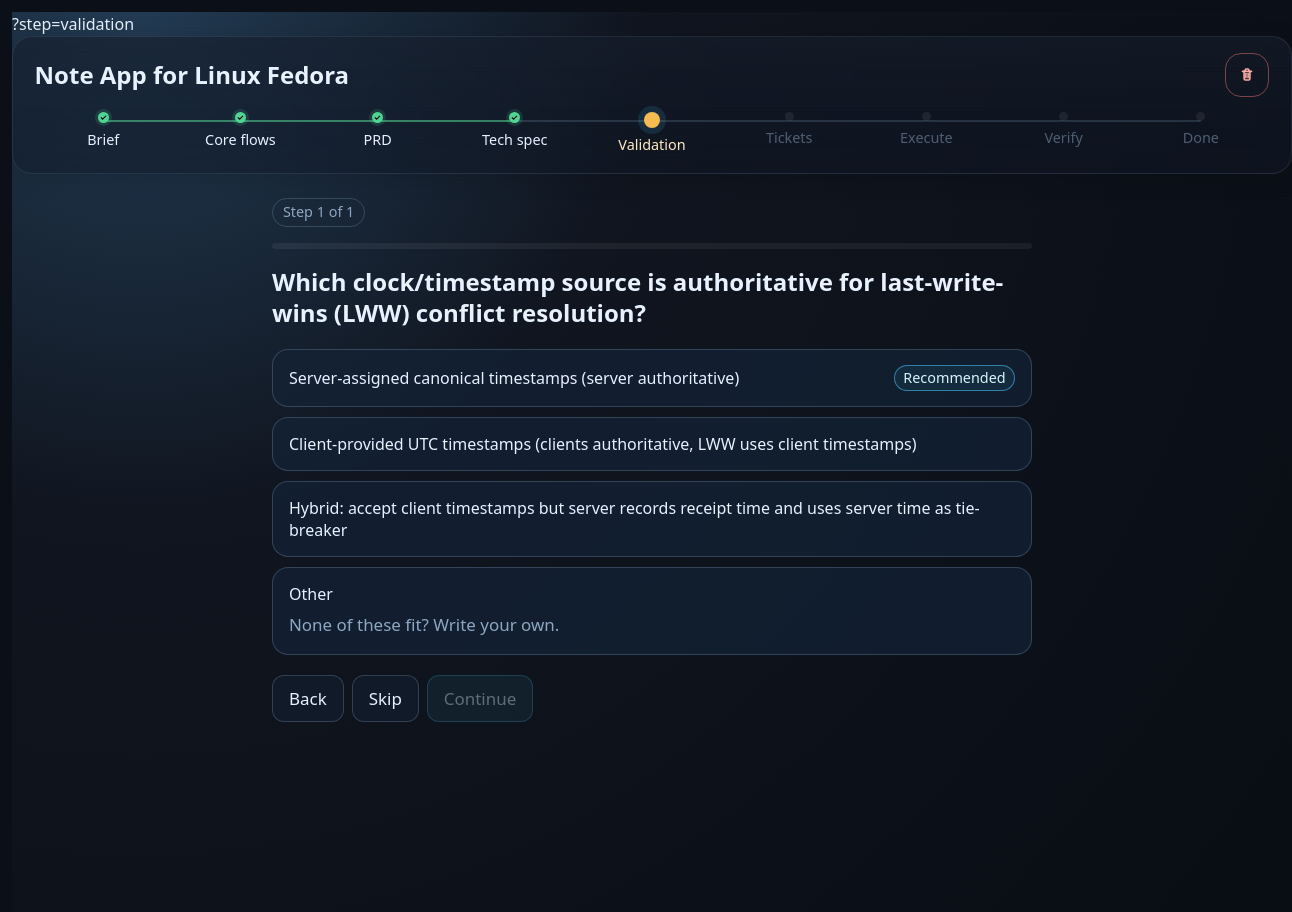
InitiativeView › turns plan validation failures back into in-place validation questions
This screenshot has width=1292, height=912.
Click the button "Server-assigned canonical timestamps (server authoritative)": {"x": 652, "y": 378} top-left (272, 349), bottom-right (1032, 407)
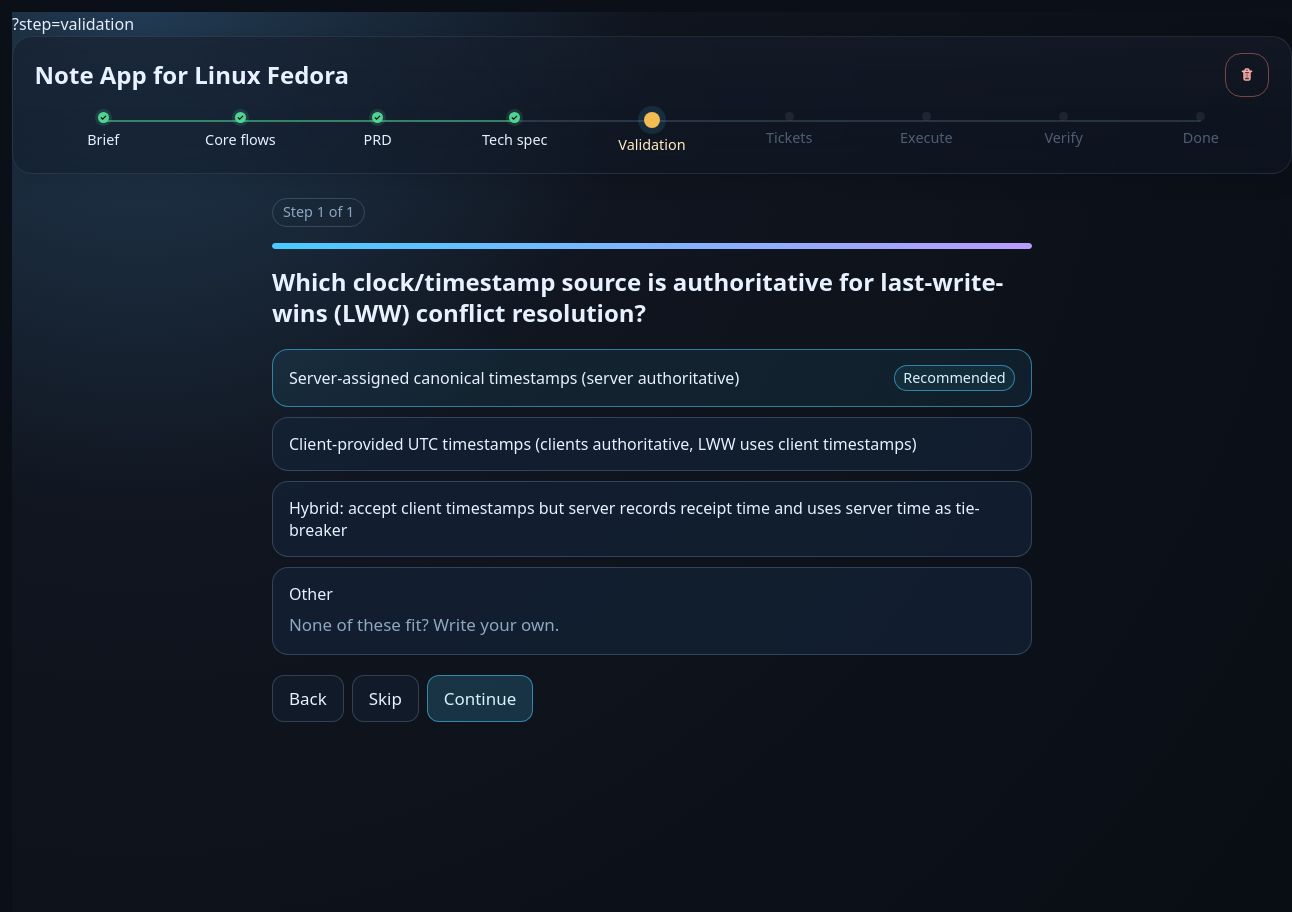
Click the button "Continue": {"x": 480, "y": 698} top-left (427, 674), bottom-right (533, 722)
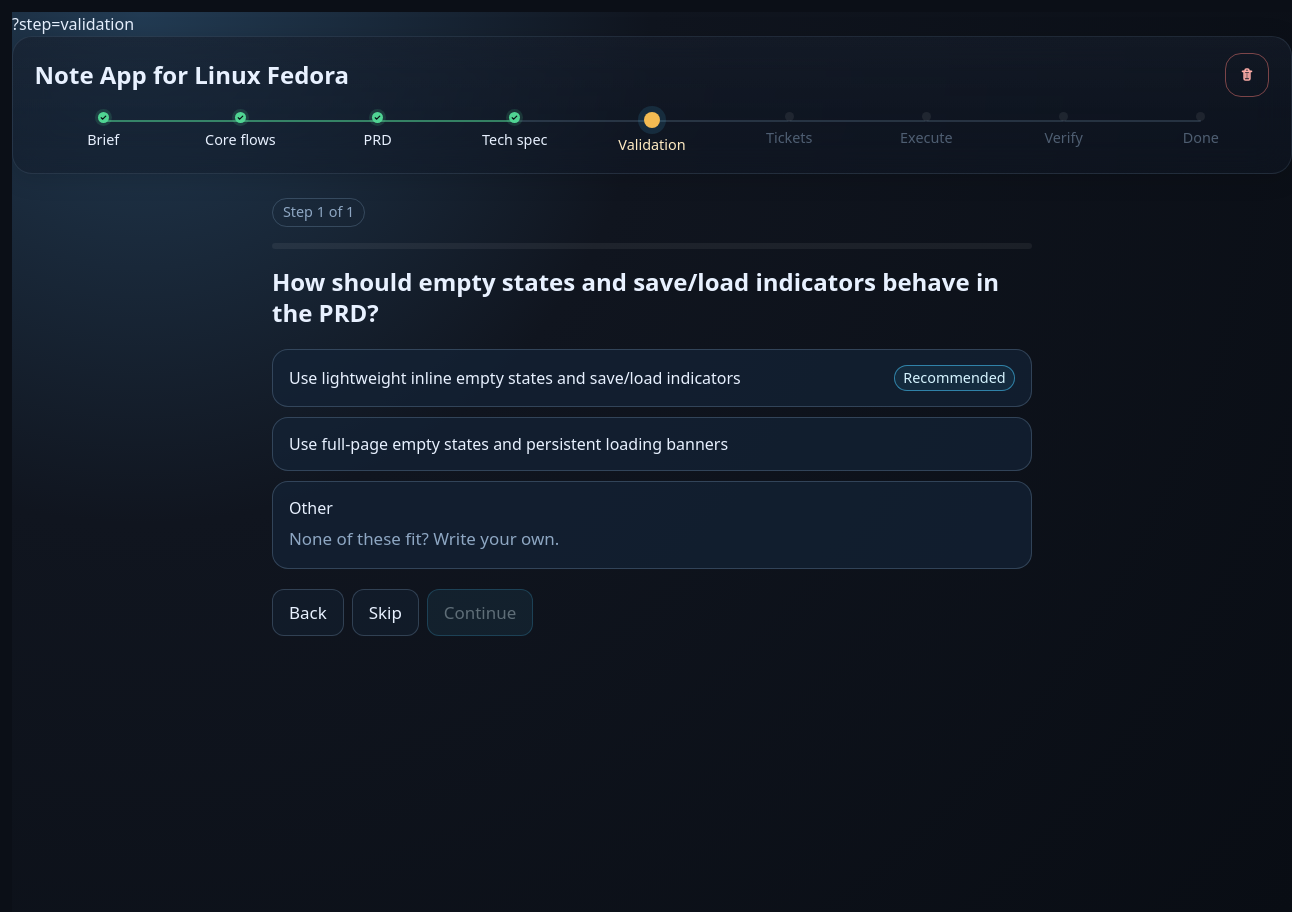
expect the heading "How should empty states and save/load indicators behave in the PRD?" is shown: met, box top-left (272, 267), bottom-right (1032, 329)
